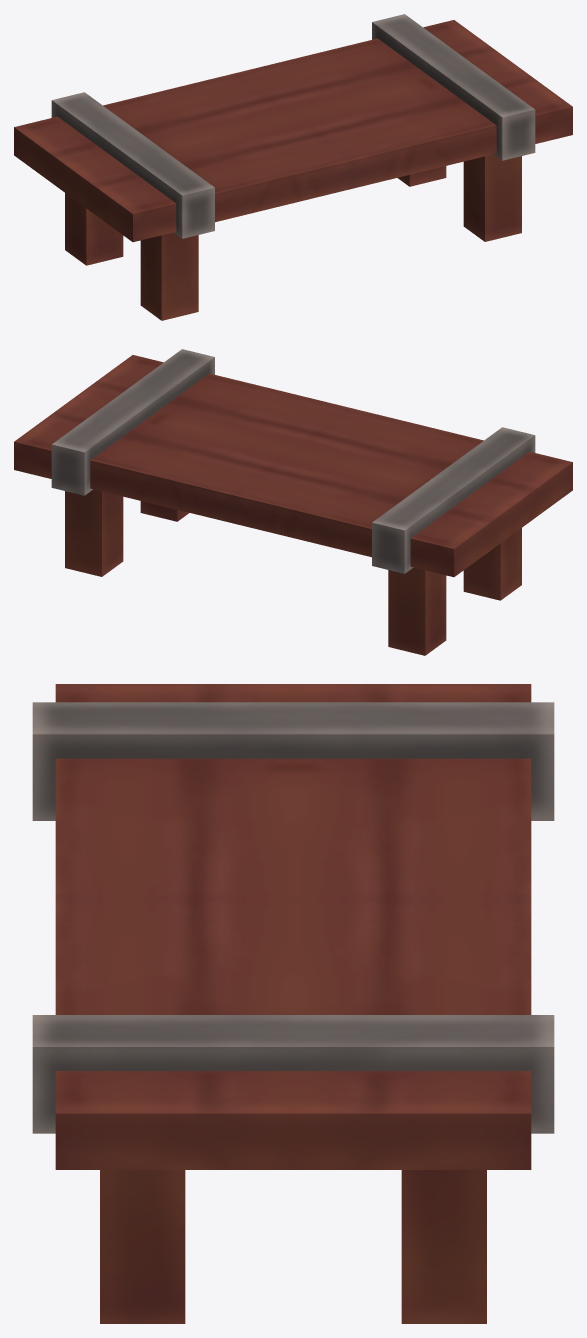
The model's file is Pirate Coffee Table.fbx.
3 views of the same model, one above another, from view 1: azimuth 30°, elevation 25°; view 2: azimuth 150°, elevation 25°; view 3: azimuth 270°, elevation 25° (orthographic). The views are drawn at different scales.
Visible parts, largest first — view 1: Pirate_Coffee_Table; view 2: Pirate_Coffee_Table; view 3: Pirate_Coffee_Table.
Boxes of the visible parts, x1=… form: Pirate_Coffee_Table: x1=14, y1=14, x2=572, y2=320; Pirate_Coffee_Table: x1=14, y1=349, x2=572, y2=655; Pirate_Coffee_Table: x1=32, y1=684, x2=554, y2=1323.
Size of the model in its own units: 171 by 50.72 by 87.62.
